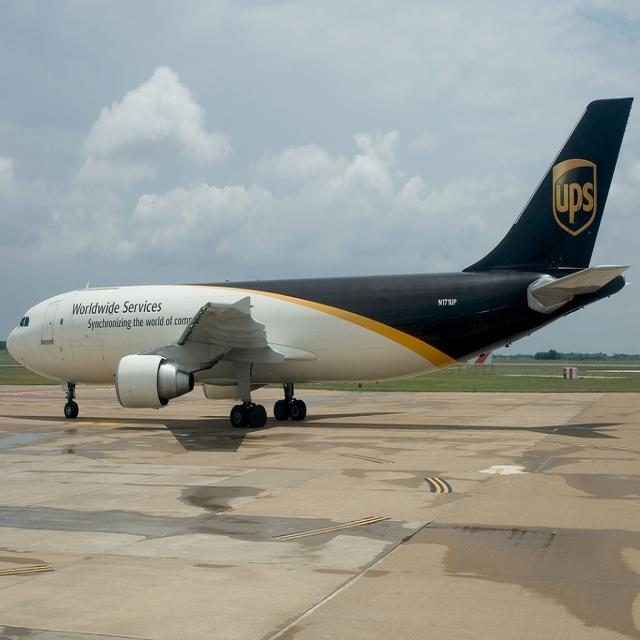ups: (552, 158, 599, 238)
